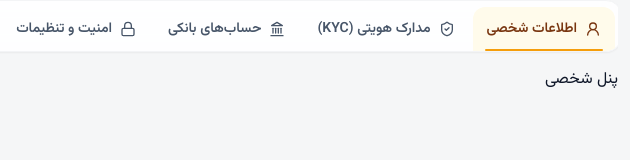
Test: ProfileTabs › switches panels when a tab is selected
expect the text "پنل شخصی" is shown: met, box [545,67,618,92]
What coordinates should you click on to do the following:
click the tab "مدارک هویتی (KYC)"
I would click on:
 (386, 29)
Its box is [303,7,468,51].
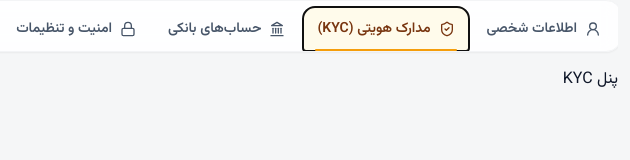
expect the text "پنل KYC" is shown: met, box [563,67,618,92]
